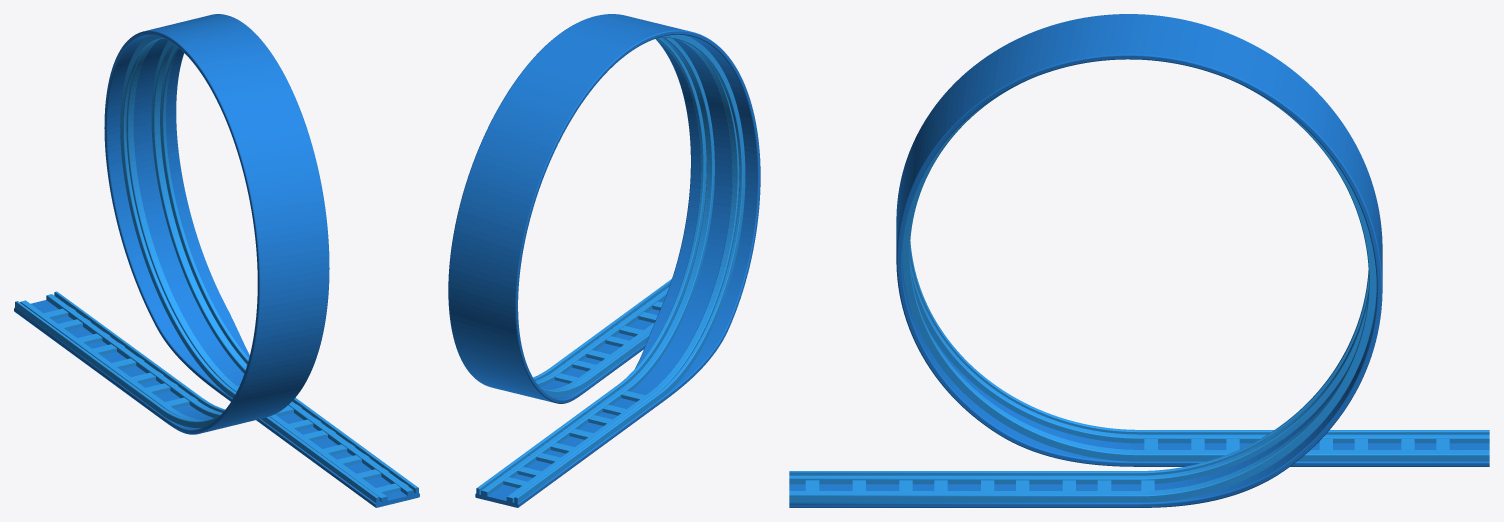
The model's file is Track_Loop.fbx.
The picture shows the model from 3 angles, left to right: view 1: azimuth 30°, elevation 25°; view 2: azimuth 150°, elevation 25°; view 3: azimuth 270°, elevation 25°; orthographic projection. The views are drawn at different scales.
Visible parts, largest first — view 1: Molded blue rail, Molded cross rib; view 2: Molded blue rail, Molded cross rib; view 3: Molded blue rail, Molded cross rib.
Boxes of the visible parts, bbox=[...] form: Molded blue rail: bbox=[14, 14, 419, 507]; Molded cross rib: bbox=[44, 307, 408, 494]; Molded blue rail: bbox=[448, 14, 760, 507]; Molded cross rib: bbox=[496, 286, 669, 488]; Molded blue rail: bbox=[789, 14, 1489, 507]; Molded cross rib: bbox=[805, 439, 1449, 490].
Bounding box in the file's own units: 324 × 833 × 1200.
